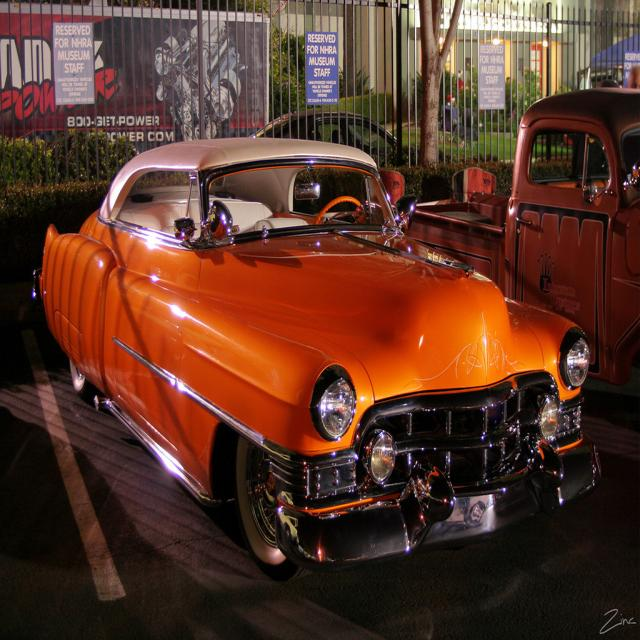car: (38, 135, 601, 566)
